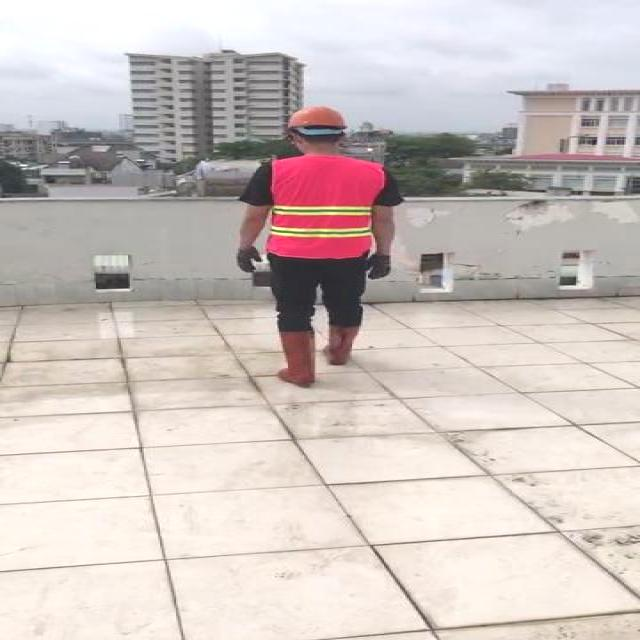boots: (276, 329, 320, 390), (324, 322, 359, 364)
hand_glove: (234, 247, 260, 275), (365, 255, 391, 281)
head_helmet: (284, 104, 348, 130)
vest: (268, 156, 377, 258)
